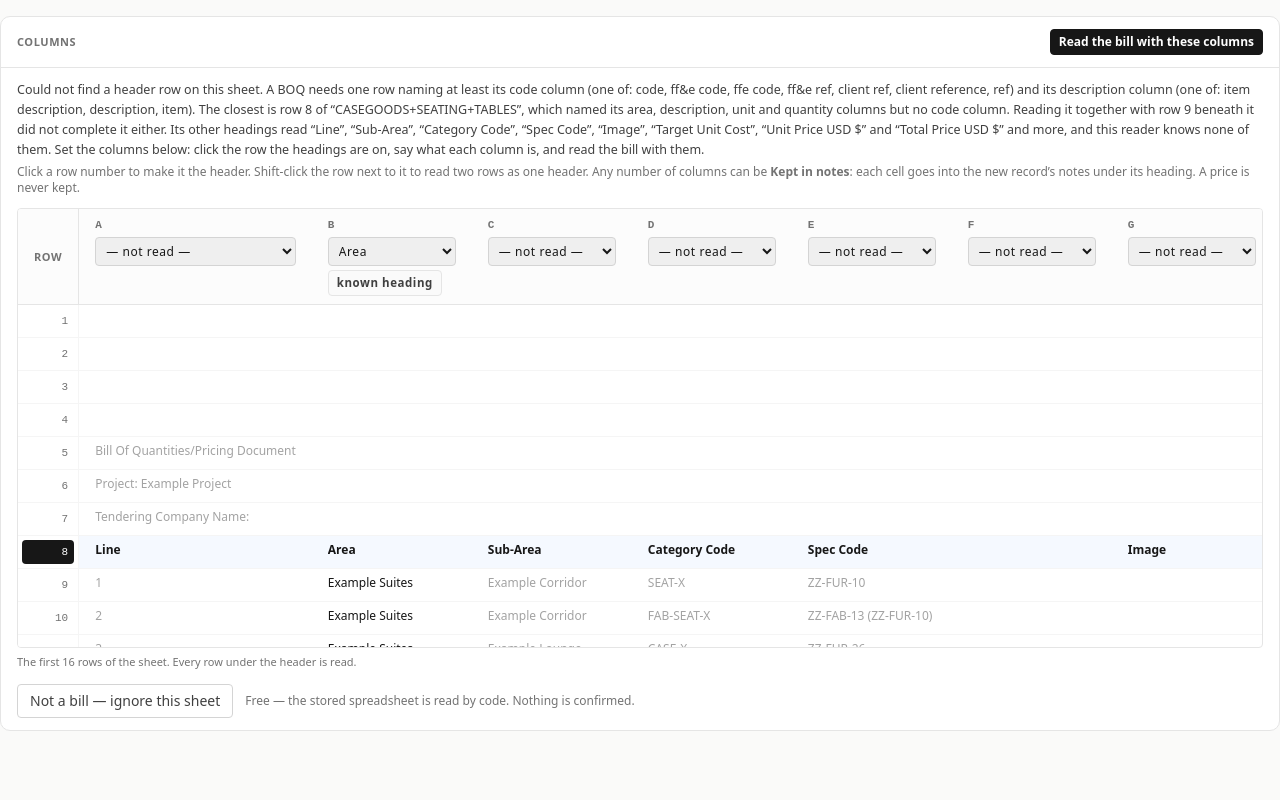
Test: the Columns panel › shows a refusal from the route on the panel
The image size is (1280, 800).
Select "Code (client ref)" in the dropdown named "Column E is read as": (872, 252) [808,237,936,266]
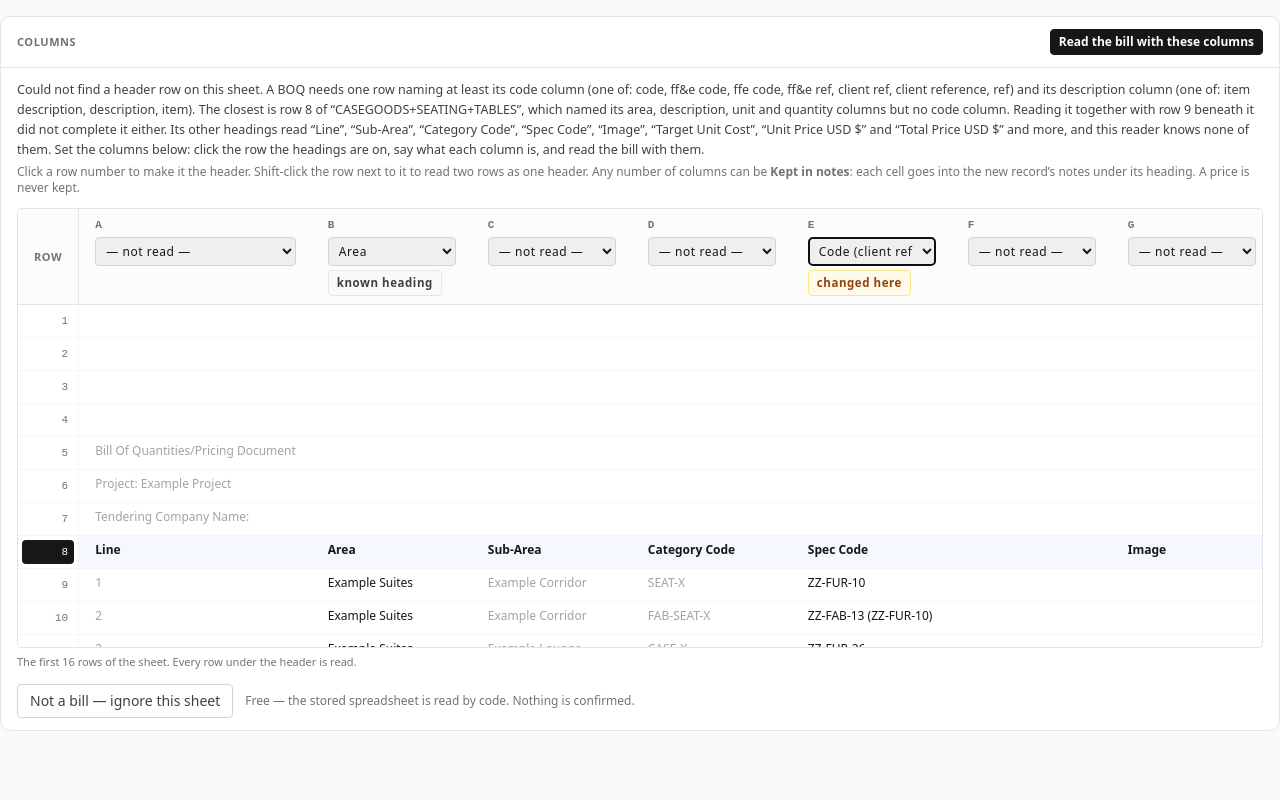
Click the button "Read the bill with these columns": (1156, 42) [1050,29,1263,55]
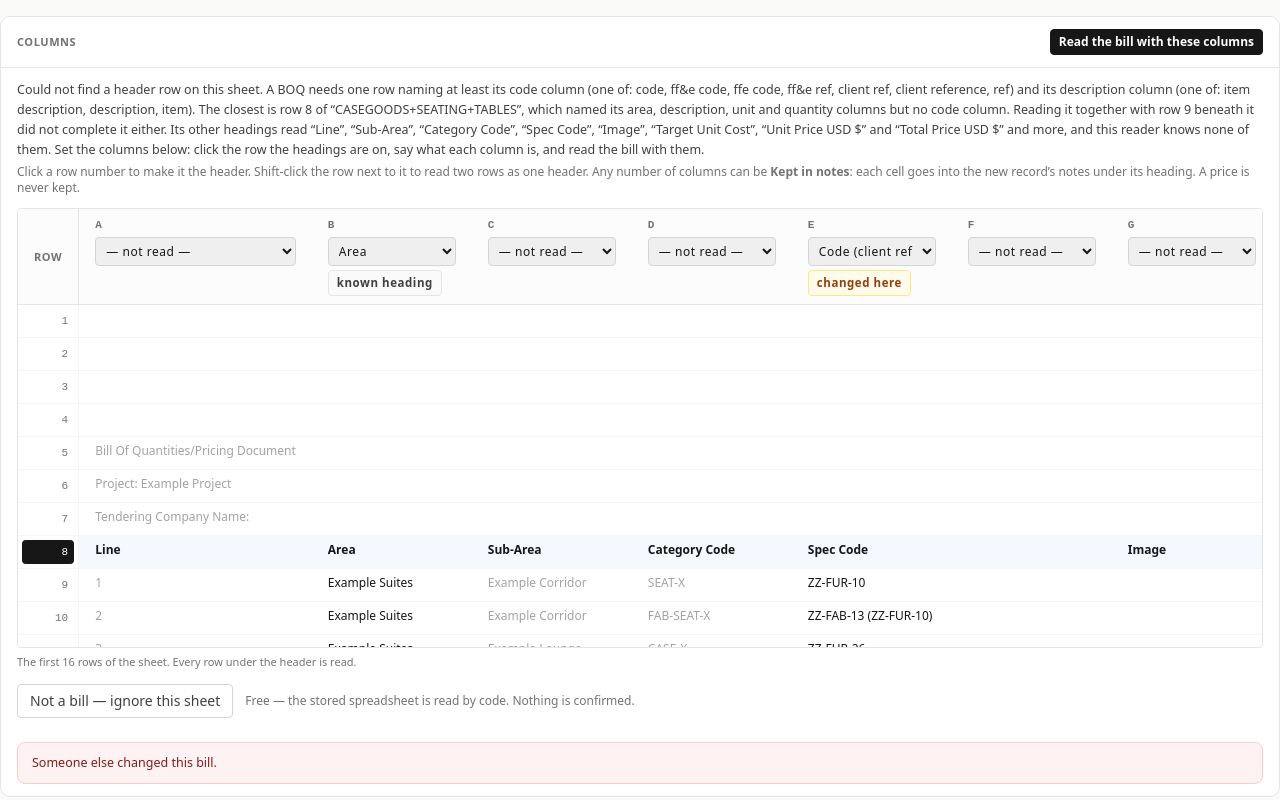
Expected: the text "Someone else changed this bill." is shown, [32,754,217,771]
